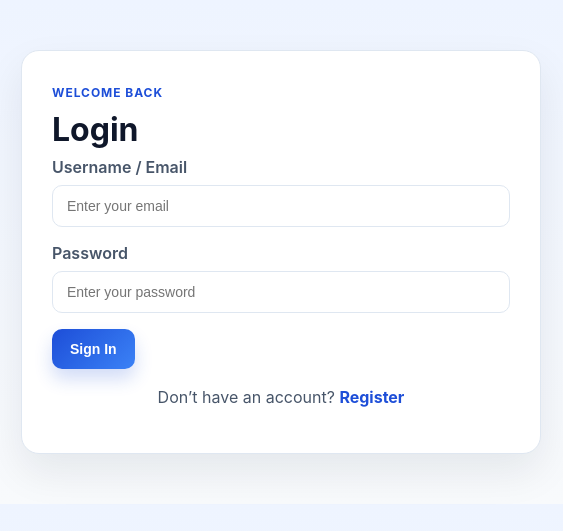
Scenario: login form › requires credentials and displays invalid-login errors
Click the button "Sign In": (93, 349) [52, 329, 135, 369]
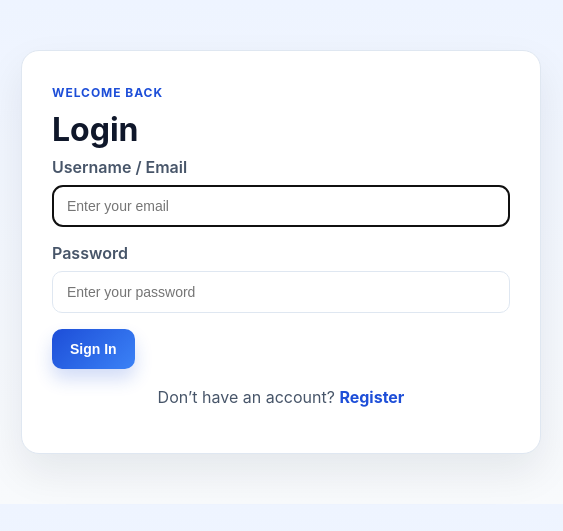
In the field labelled "Username / Email": (281, 206) [52, 185, 510, 227], type "customer@example.test"
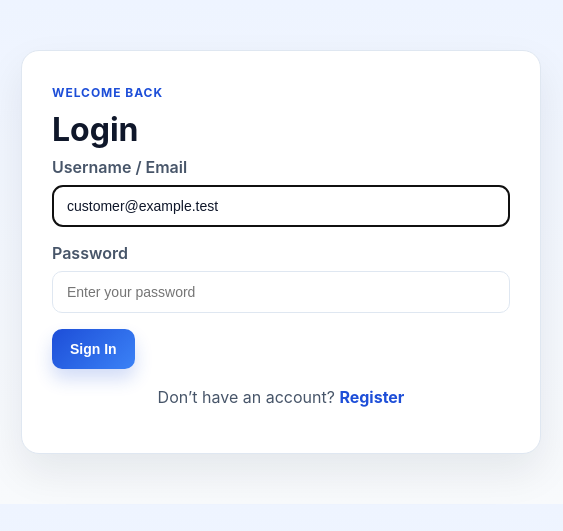
In the password field labelled "Password": (281, 292) [52, 271, 510, 313], type "wrong-password"
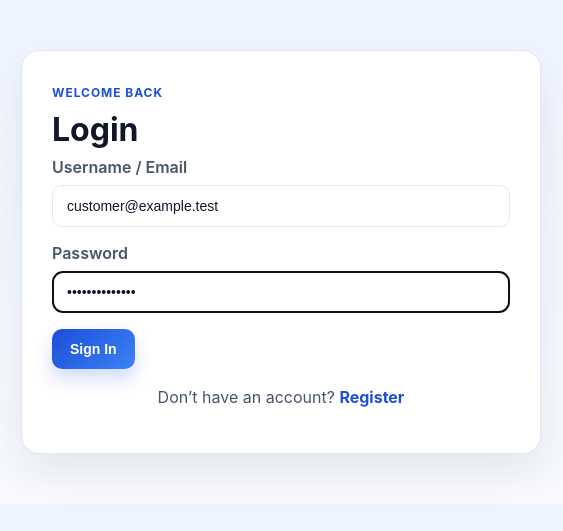
Click the button "Sign In": (93, 349) [52, 329, 135, 369]
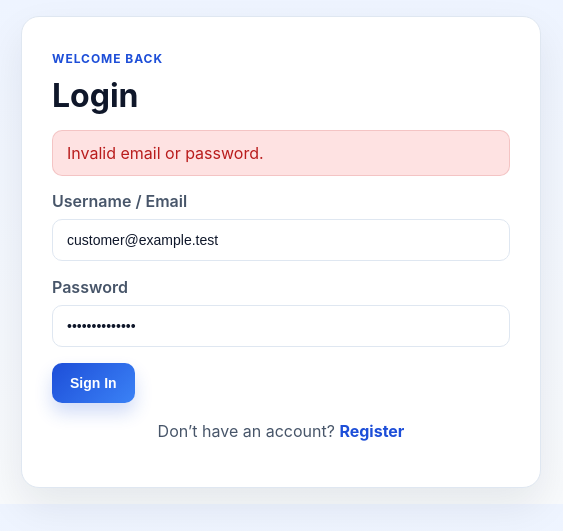
Check: the text "Invalid email or password." is shown, box [52, 130, 510, 176]
